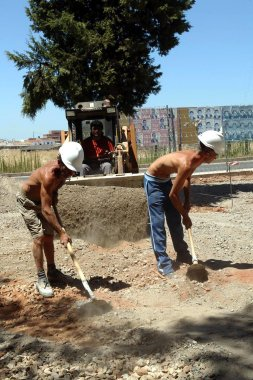casco: (56, 139, 86, 175), (195, 128, 228, 159)
